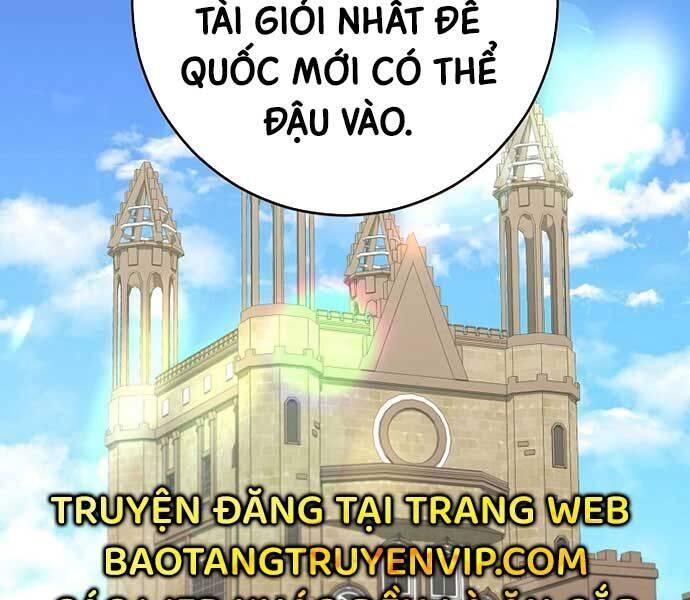quangcao: (42, 484, 644, 600)
